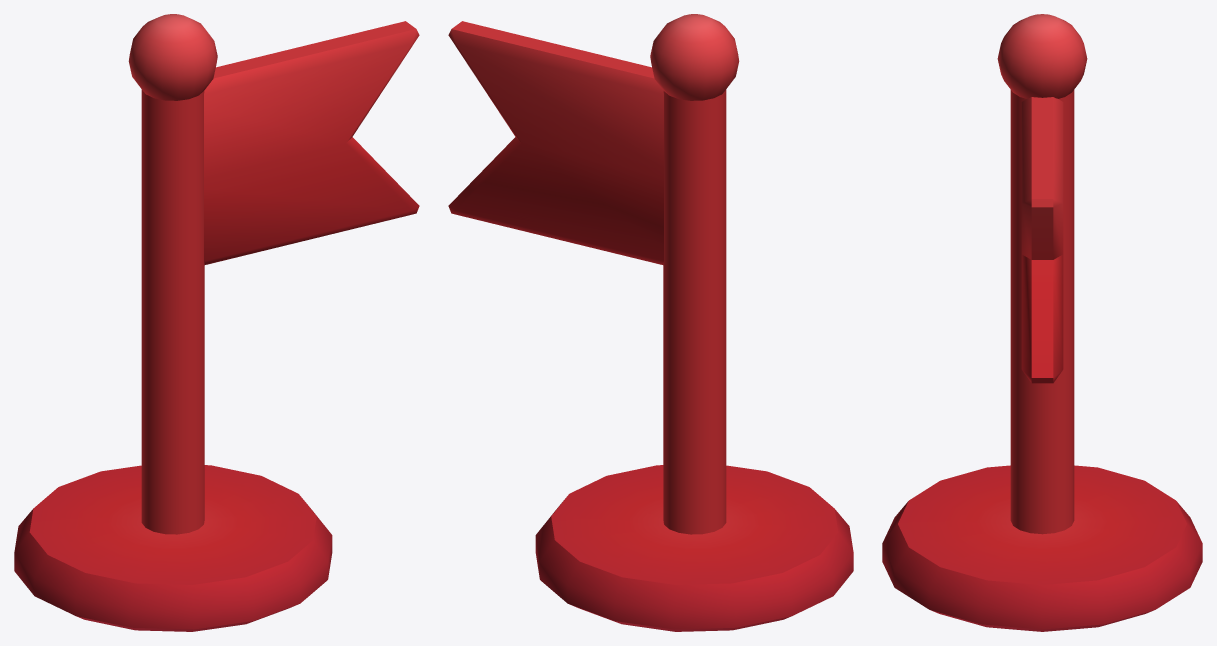
File: flag_B_red.gltf
3 views of the same model, side by side, from view 1: azimuth 30°, elevation 25°; view 2: azimuth 150°, elevation 25°; view 3: azimuth 270°, elevation 25° (orthographic).
Visible parts, largest first — view 1: flag_B_red; view 2: flag_B_red; view 3: flag_B_red.
Part boxes in pixels (x1,y1,x2,y2): flag_B_red: (14,14,419,631); flag_B_red: (448,14,853,631); flag_B_red: (882,14,1202,631).
Size of the model in its own units: 1.03 by 1.43 by 0.75.
1 material, 1 textured.
